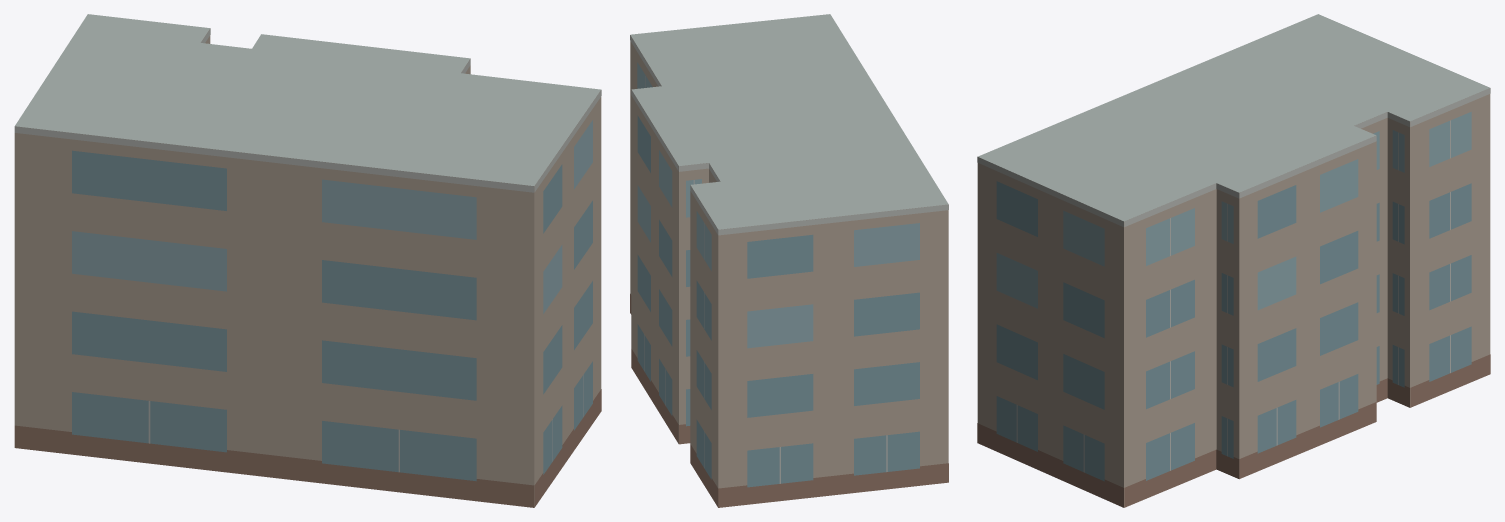
File: survey-upis-33042848.glb
3 views of the same model, side by side, from view 1: azimuth 30°, elevation 25°; view 2: azimuth 150°, elevation 25°; view 3: azimuth 270°, elevation 25° (orthographic). The views are drawn at different scales.
Visible parts, largest first — view 1: survey-upis-33042848.tmp; view 2: survey-upis-33042848.tmp; view 3: survey-upis-33042848.tmp.
Part boxes in pixels (x1,y1,x2,y2): survey-upis-33042848.tmp: (14,14,601,507); survey-upis-33042848.tmp: (630,14,948,507); survey-upis-33042848.tmp: (977,14,1490,507).
Size of the model in its own units: 18.5 by 11.9 by 19.32.
